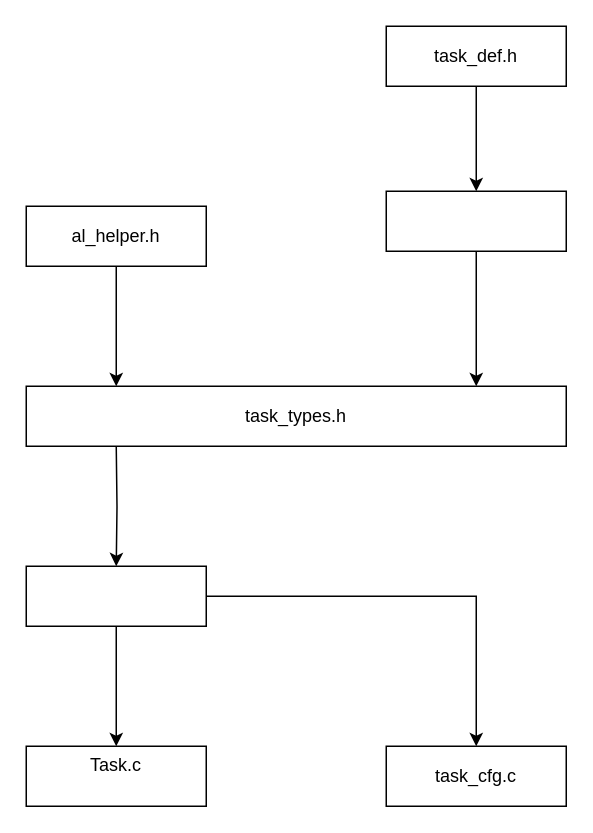
Some shapes in this 593 by 833 pixel diagram are drawn without their labels. Each missing label, with the box of its shape:
Task.h: (25, 565, 206, 626)
task_cfg.h: (385, 190, 566, 251)
